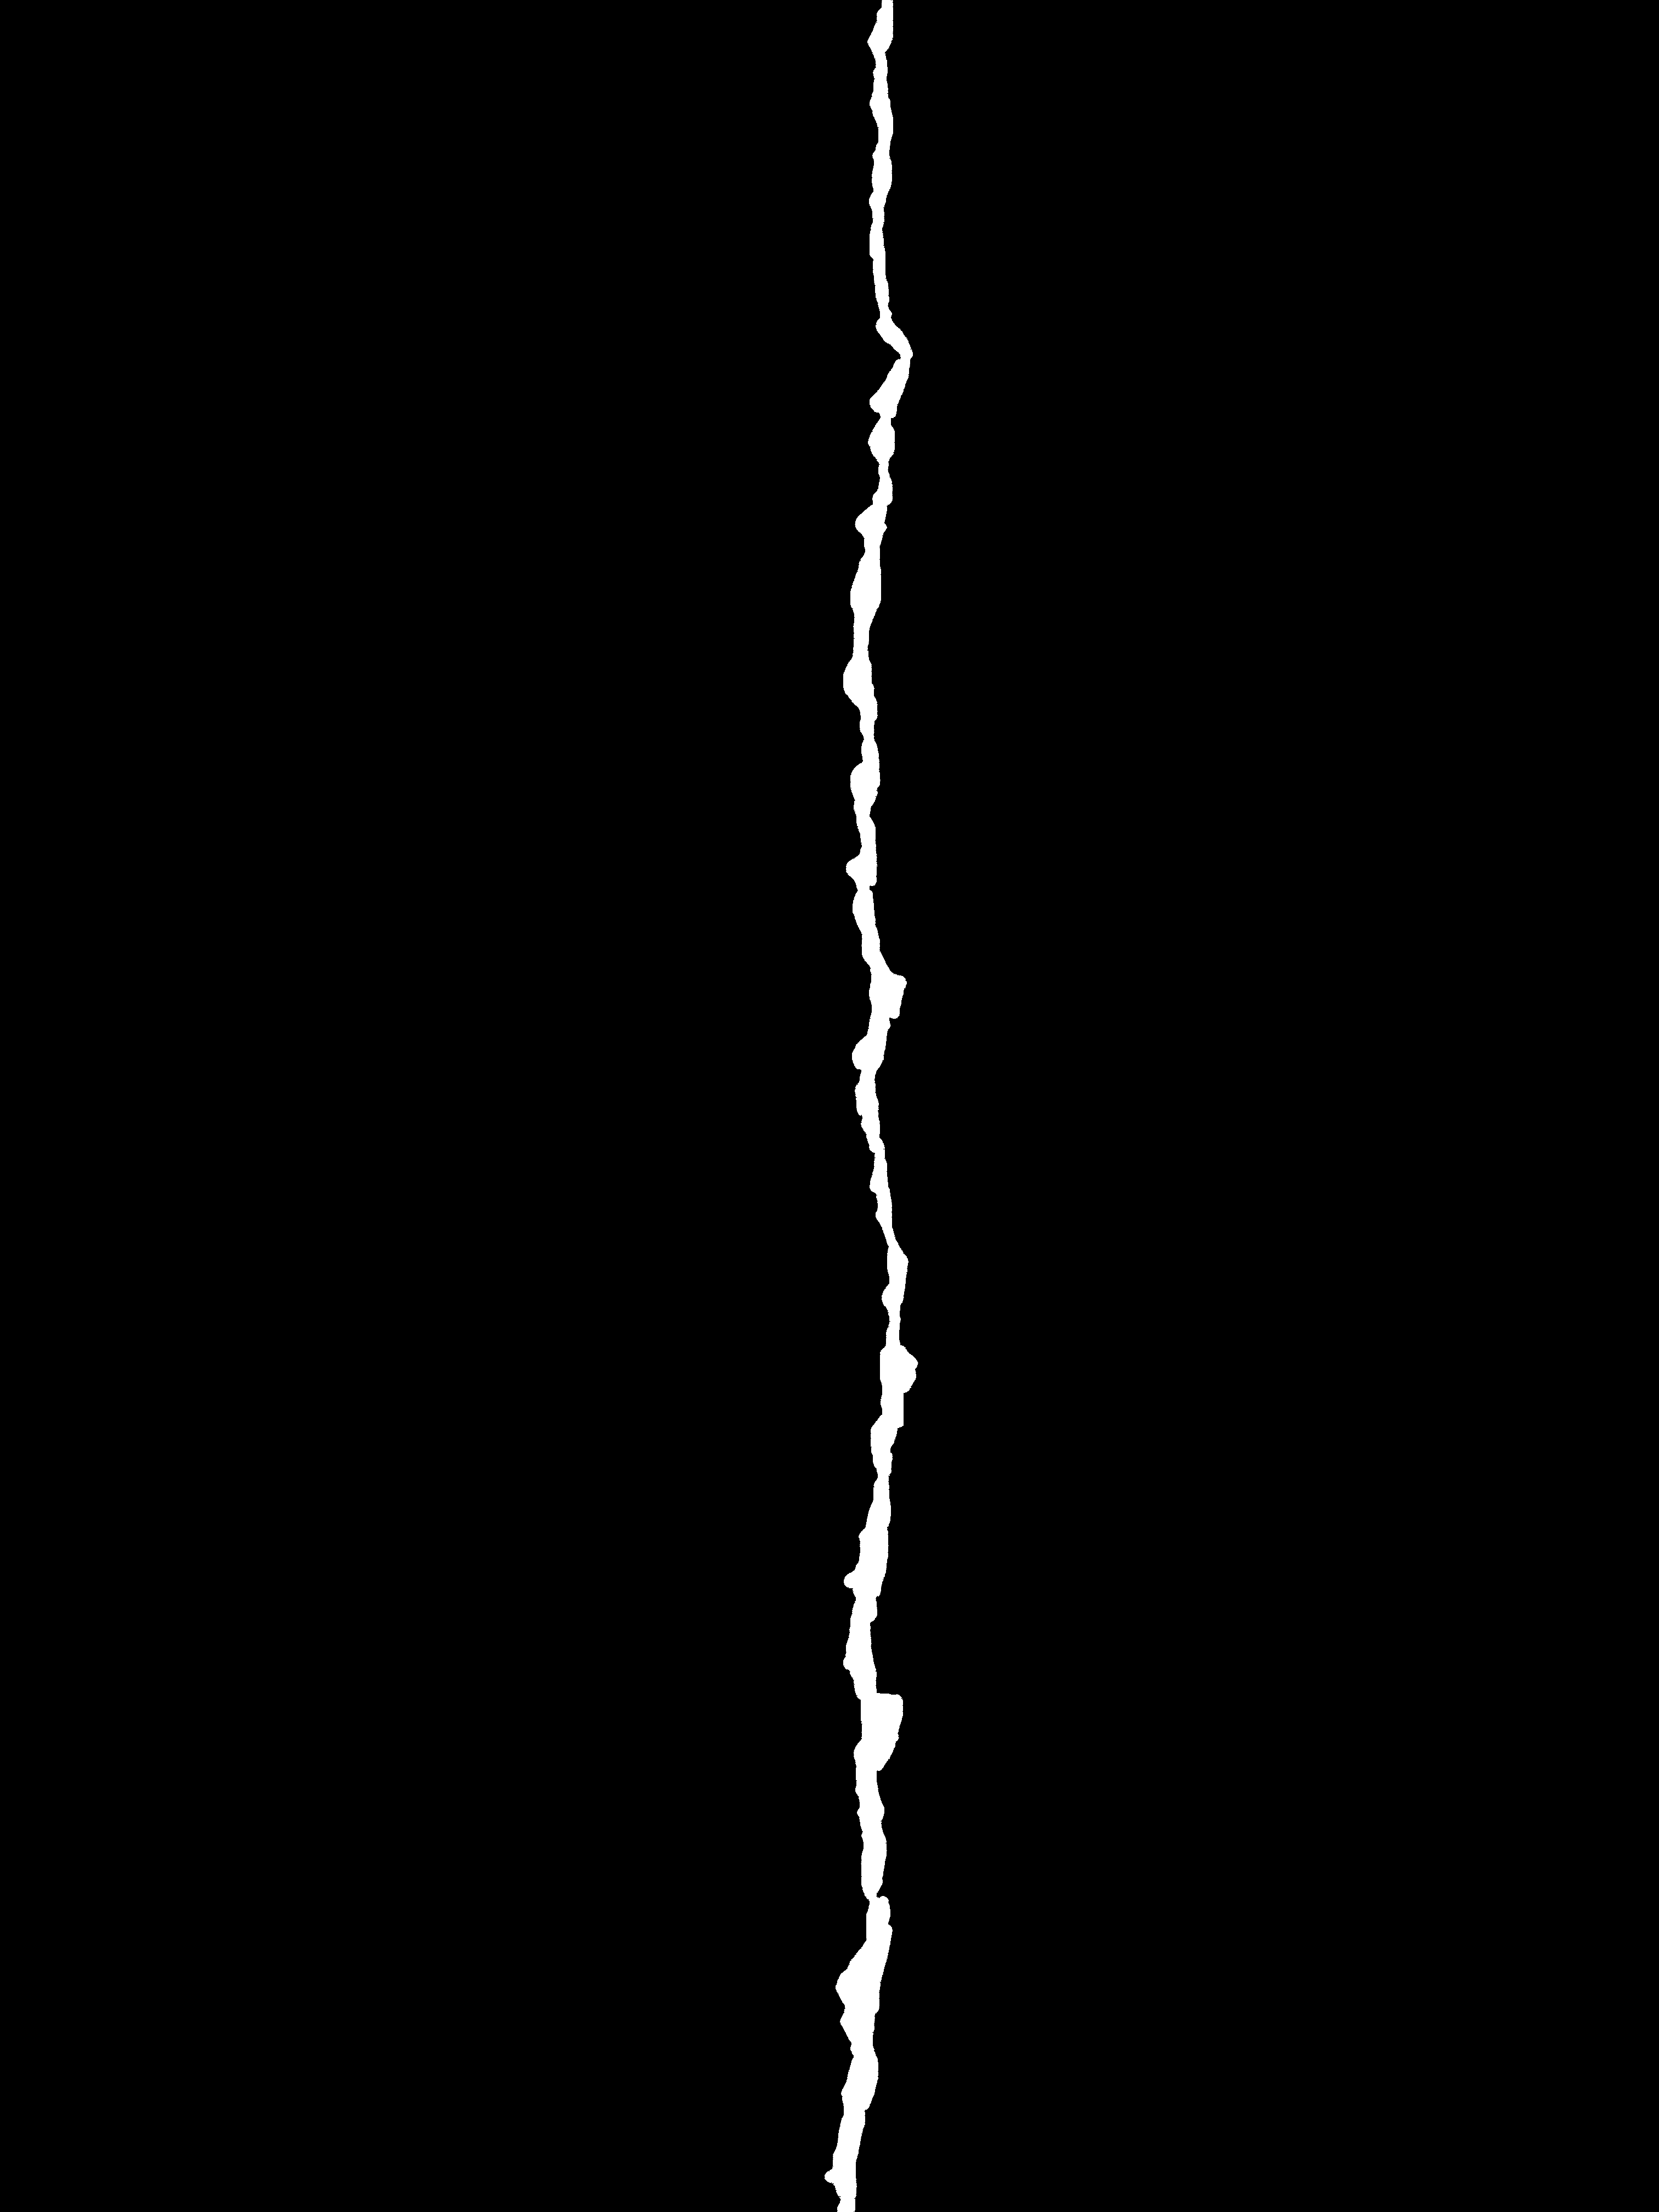Crack: (793, 0, 957, 2212)
